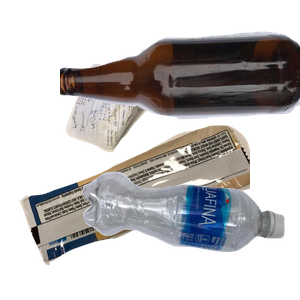glass: (60, 29, 300, 141)
paper: (63, 61, 242, 206)
plastic: (80, 169, 300, 300)
trash: (17, 123, 257, 300)
